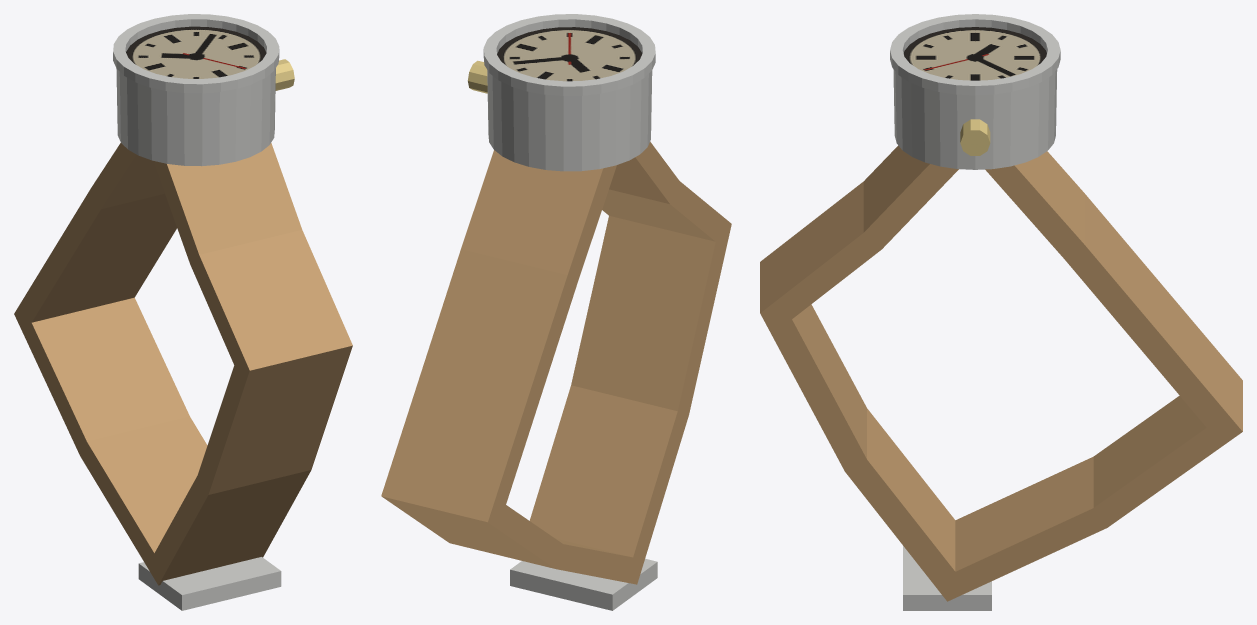
The model's file is Watch_v2.fbx.
3 views of the same model, side by side, from view 1: azimuth 30°, elevation 25°; view 2: azimuth 150°, elevation 25°; view 3: azimuth 270°, elevation 25° (orthographic). The views are drawn at different scales.
Visible parts, largest first — view 1: Watch_v2; view 2: Watch_v2; view 3: Watch_v2.
Boxes of the visible parts, box(x1,y1,x2,y2) form: Watch_v2: box(14, 14, 352, 610); Watch_v2: box(381, 14, 731, 610); Watch_v2: box(760, 14, 1242, 610).
Bounding box in the file's own units: 0.0412 × 0.1262 × 0.103.
